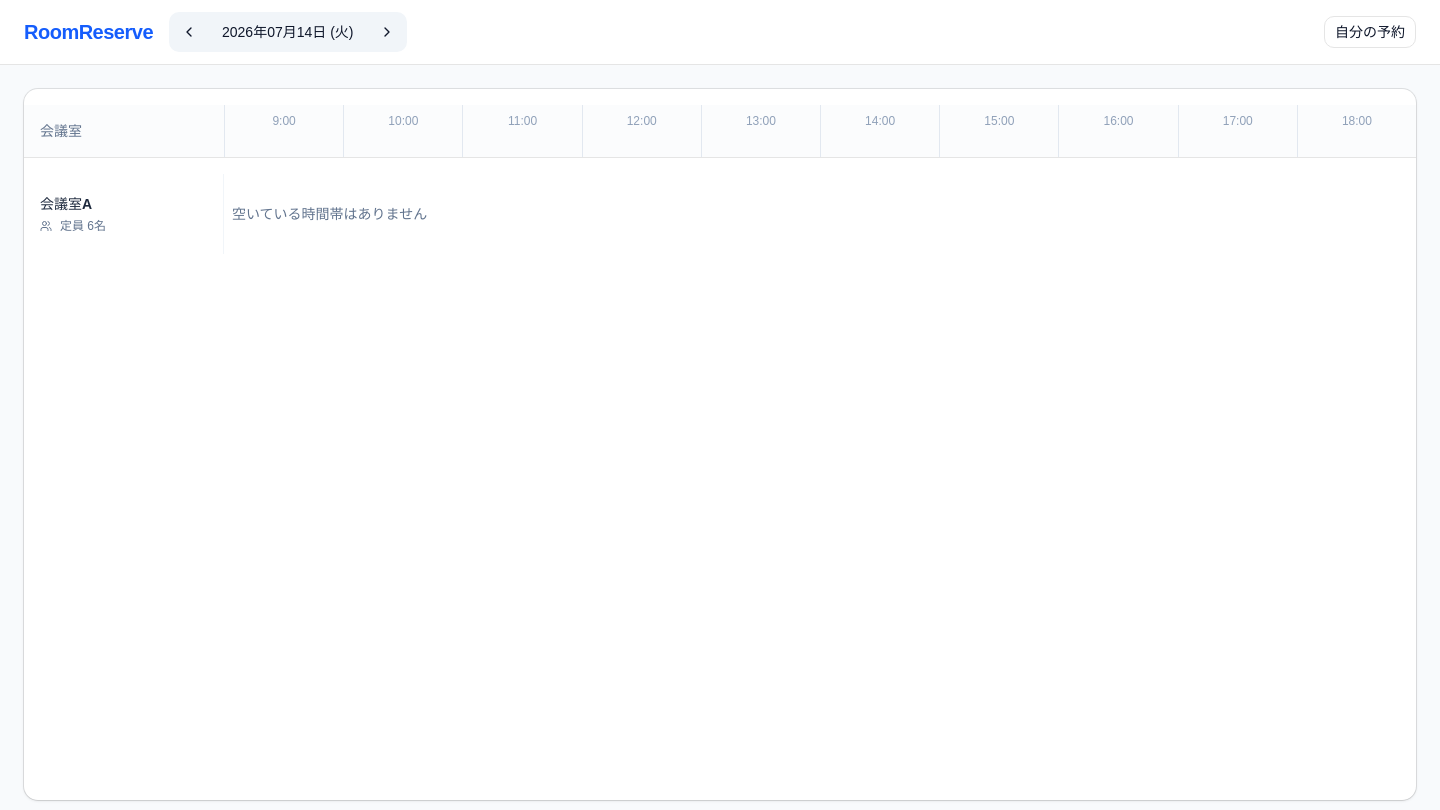
Test: 自分の予約(RFE-C) › 一度も予約していない場合、その旨が画面で分かる
This screenshot has width=1440, height=810.
Click the button "自分の予約" at (1370, 32), box [1324,16,1416,48]
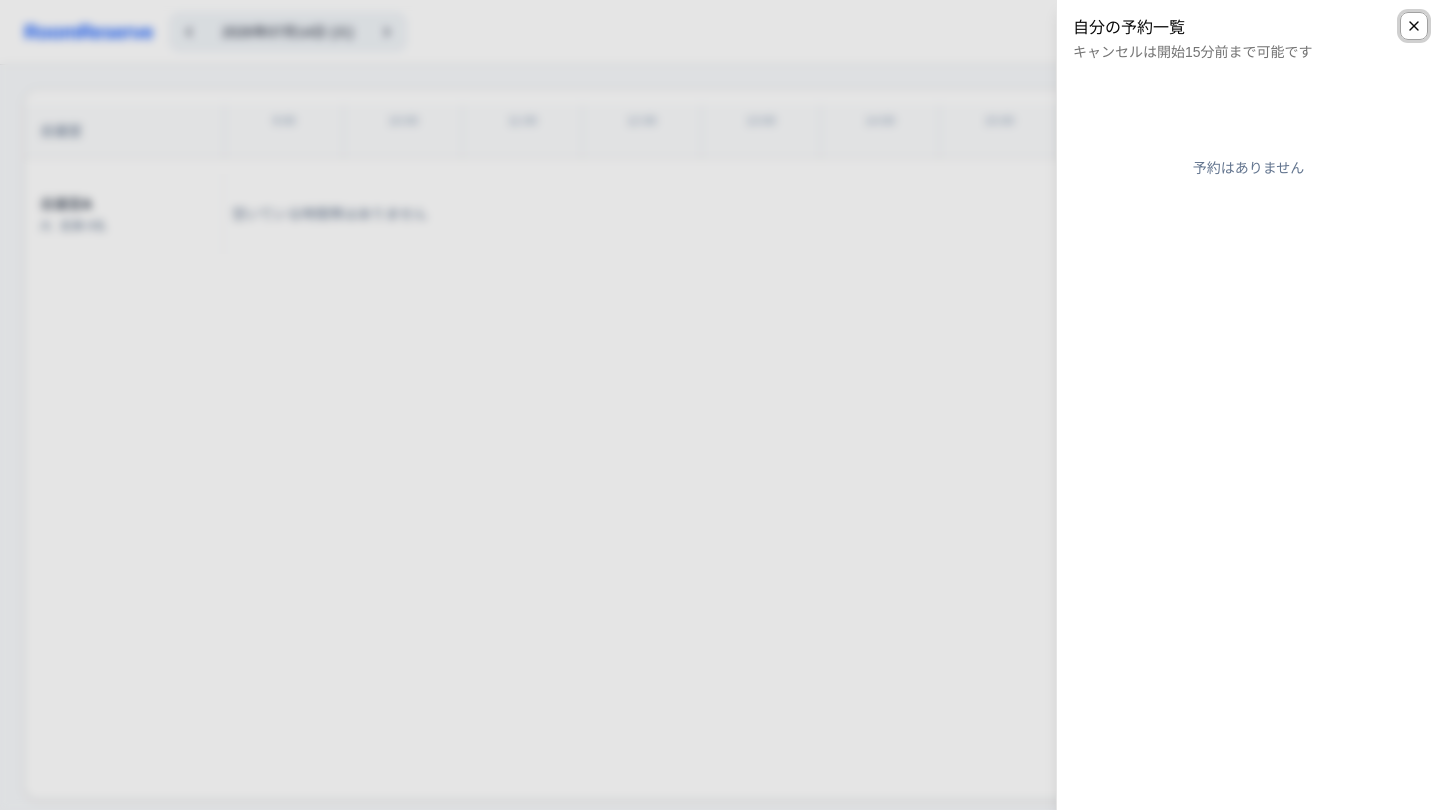
Check: the text "予約はありません" is shown, box [1193,160,1304,176]
